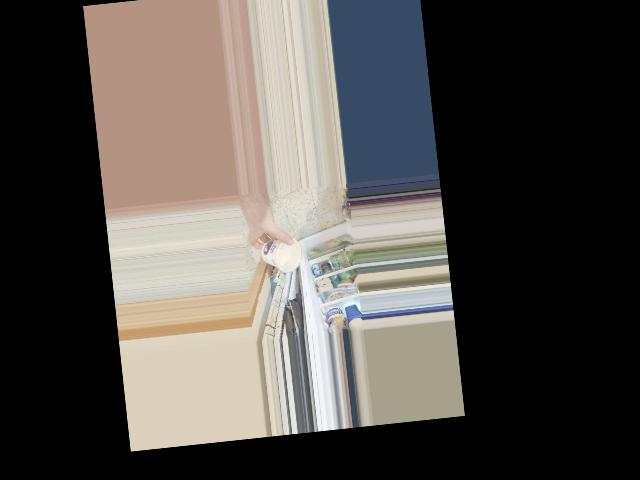cotage: (261, 230, 304, 273)
